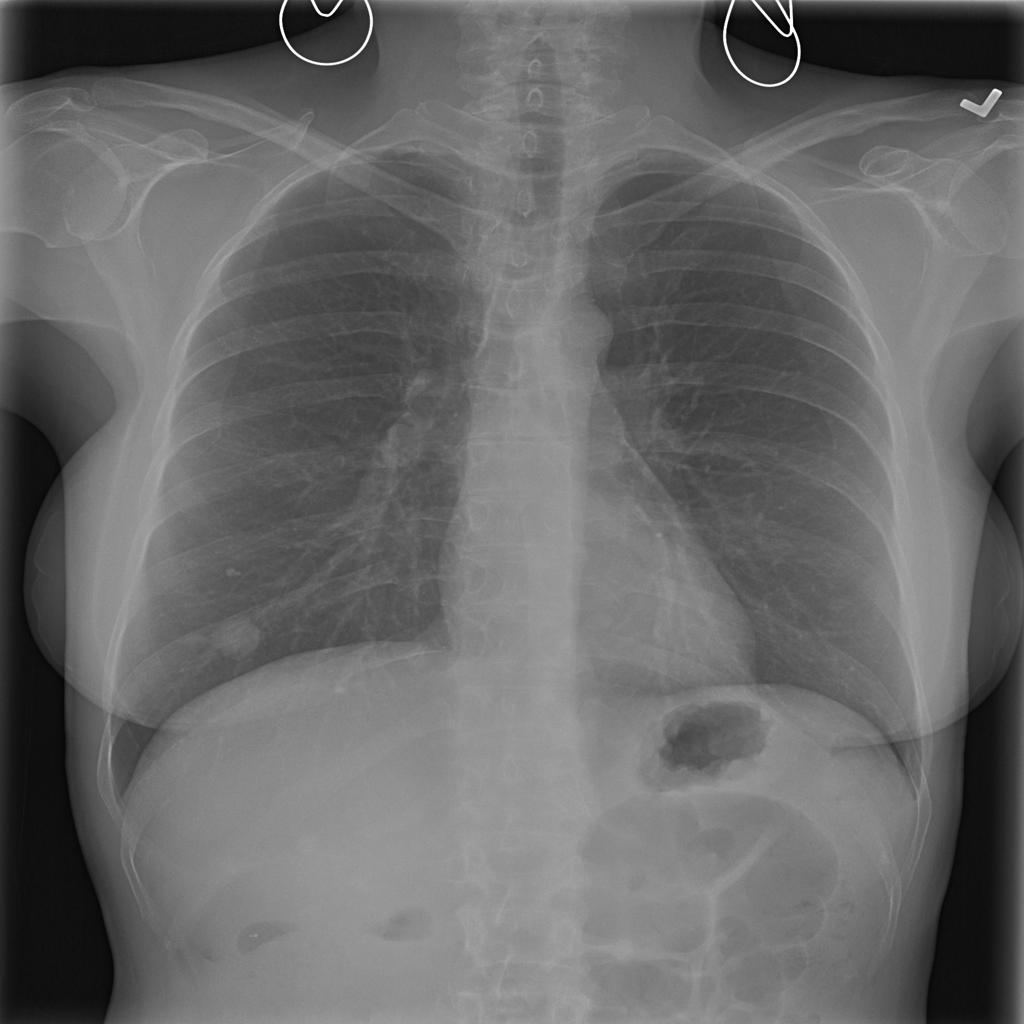nodule: (196, 605, 276, 667), (216, 558, 250, 584)
